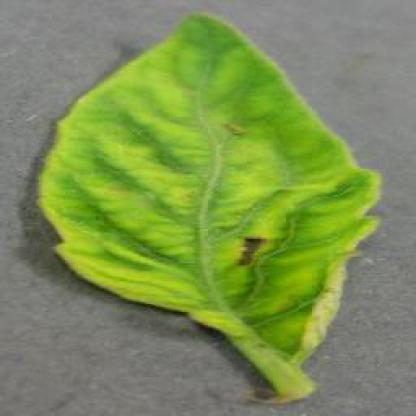bad leaf: (57, 69, 207, 311), (215, 225, 292, 291), (301, 253, 350, 332), (210, 101, 256, 157)
